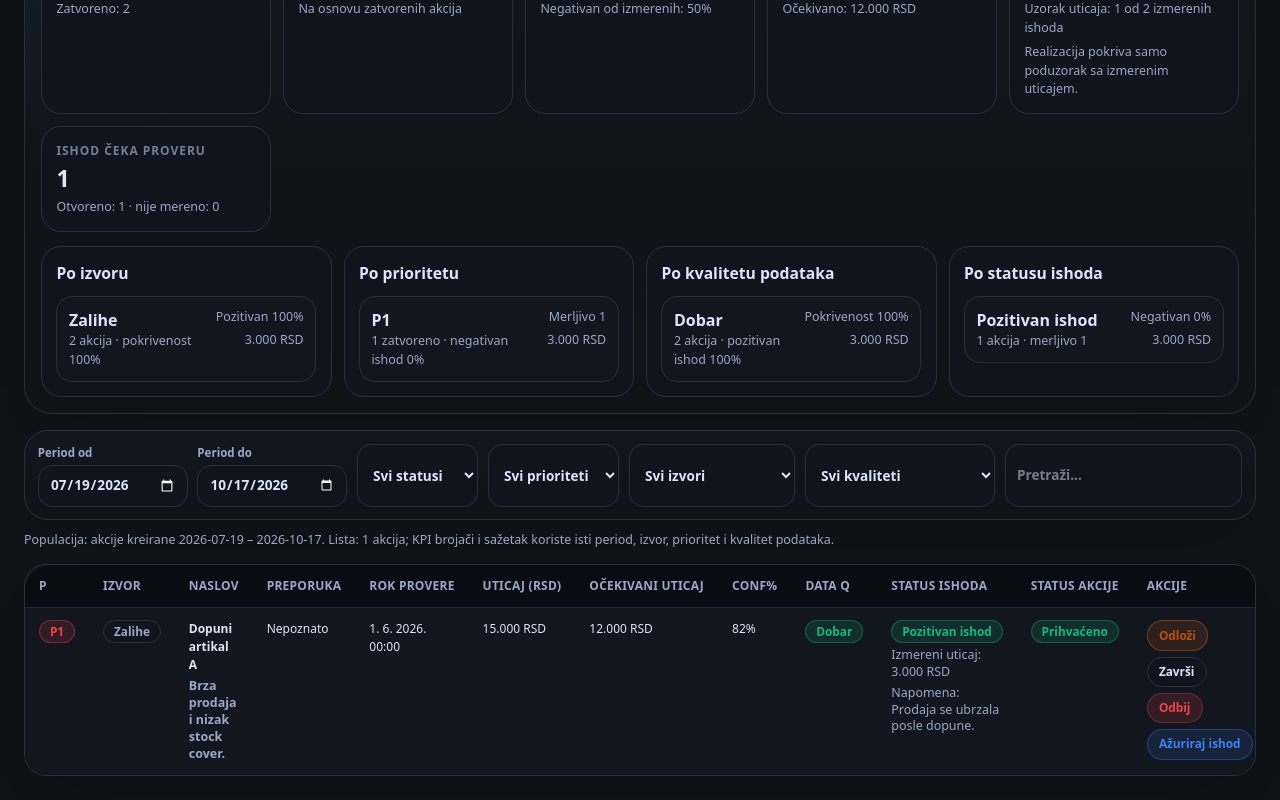
Test: AnalyticsActionsPage › removes one active summary filter from the helper links
The width and height of the screenshot is (1280, 800).
(page scrolled)
Expected: the text "Dopuni artikal A" is shown, [189,620,232,673]
Select "Zalihe" in the dropdown named "Filter po izvoru" at coordinates (712, 475), box [629,444,795,507]
(page scrolled)
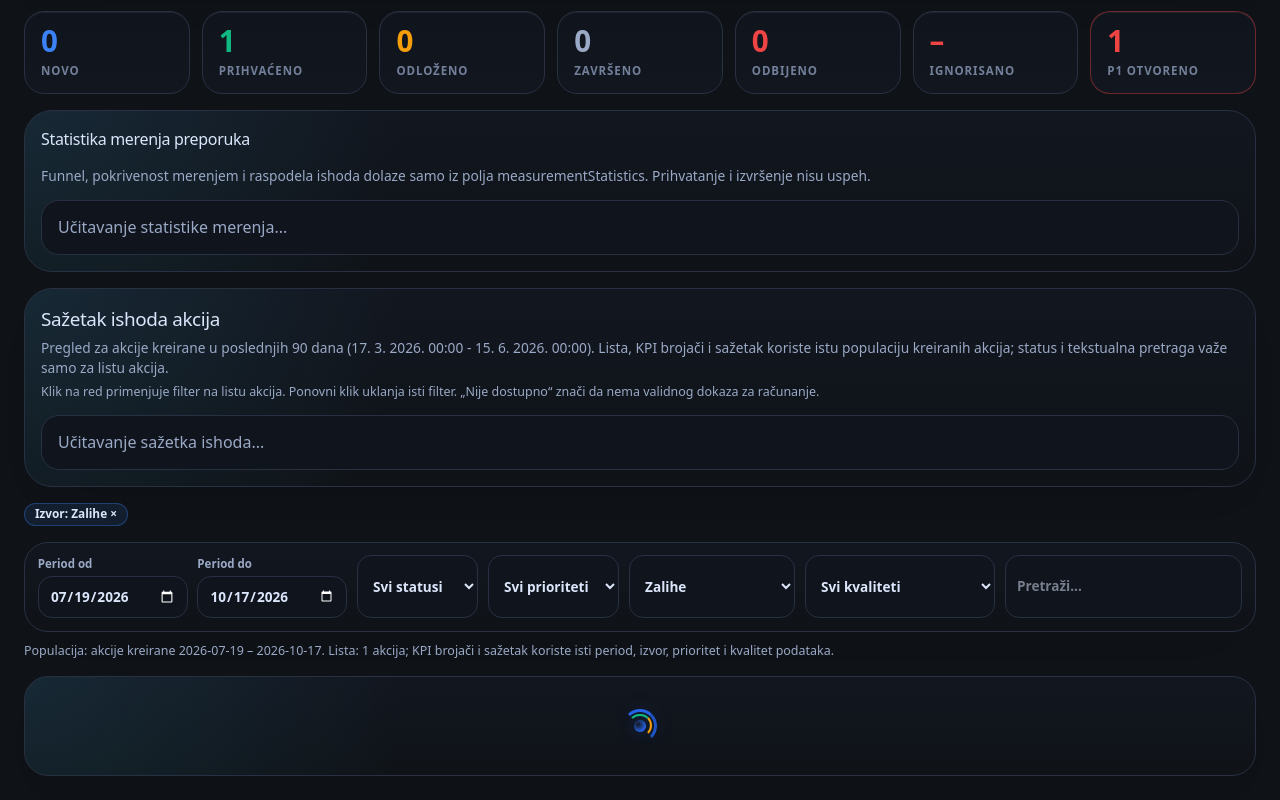
Select "P1" in the dropdown named "Filter po prioritetu" at coordinates (554, 587), box [488,556,619,618]
(page scrolled)
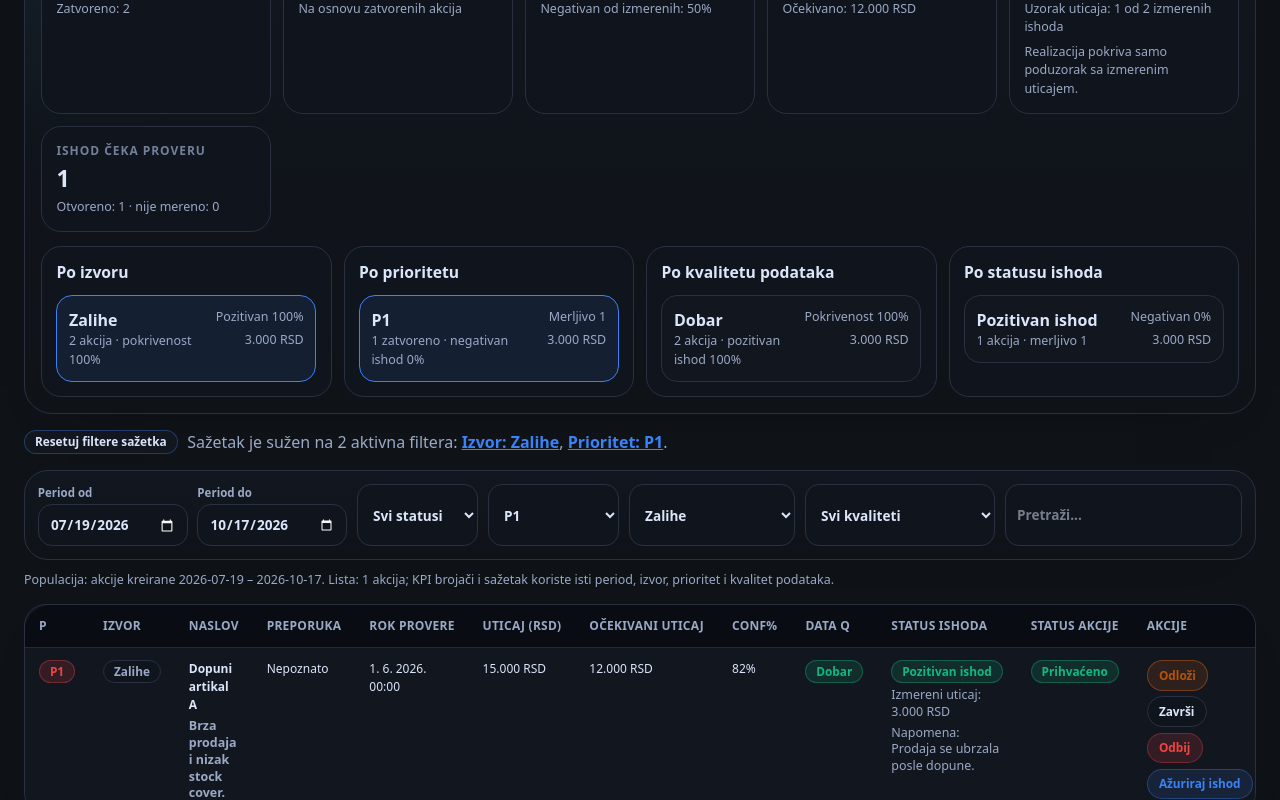
Click the button "Prioritet: P1" at coordinates (616, 442), box [568,430,663,454]
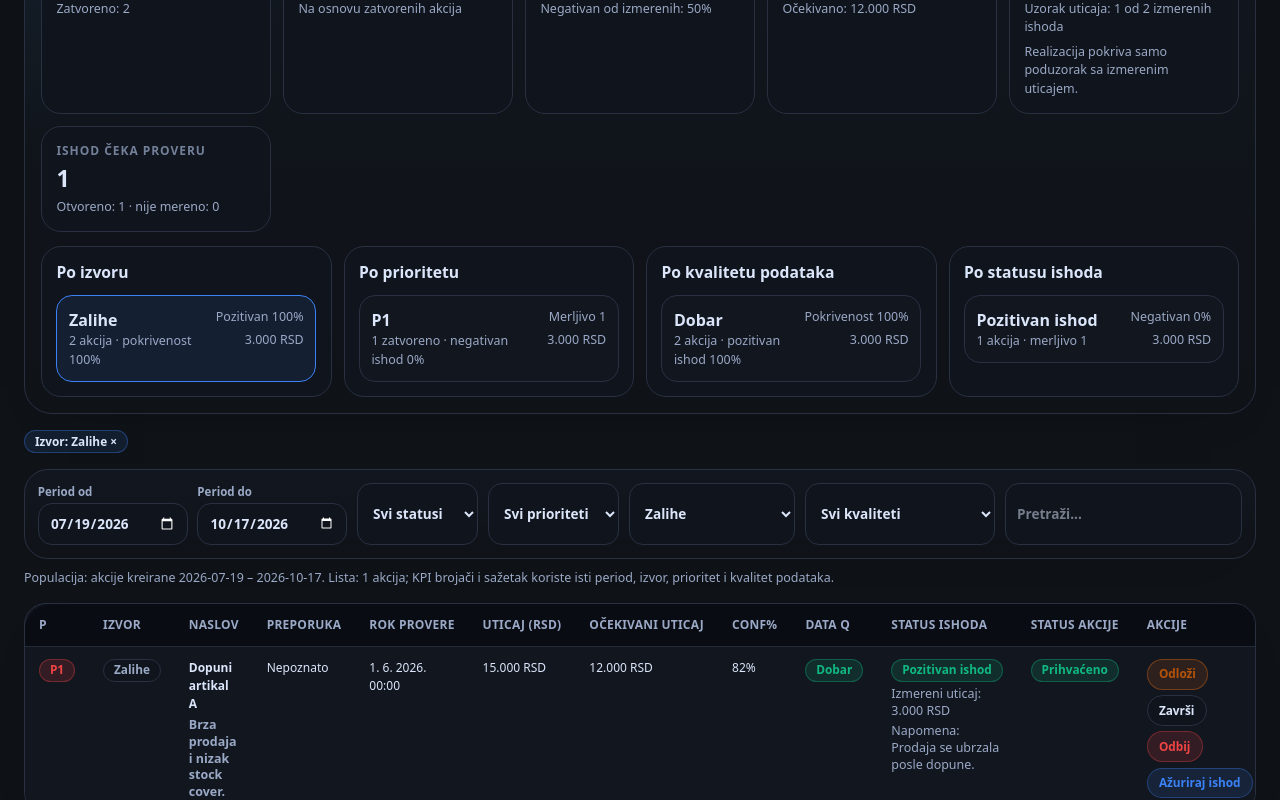
Now the button "Izvor: Zalihe ×" is shown, box [24,430,128,453]
Now the button "Prioritet: P1" is gone
